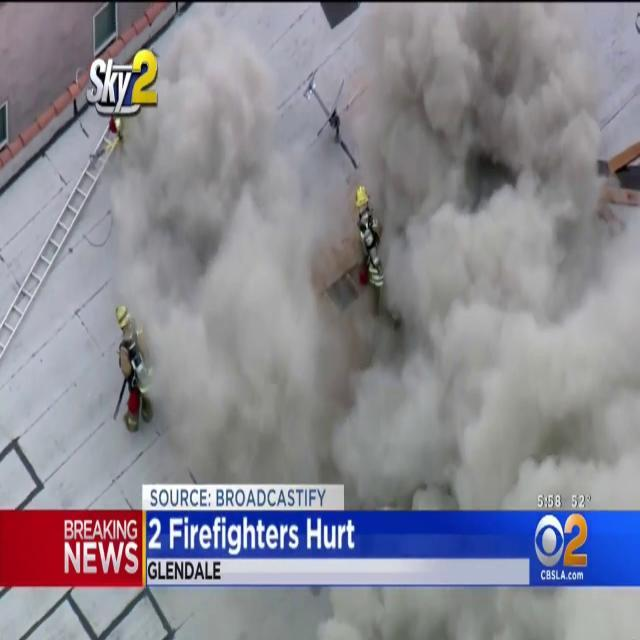Smoke: (102, 3, 640, 489)
